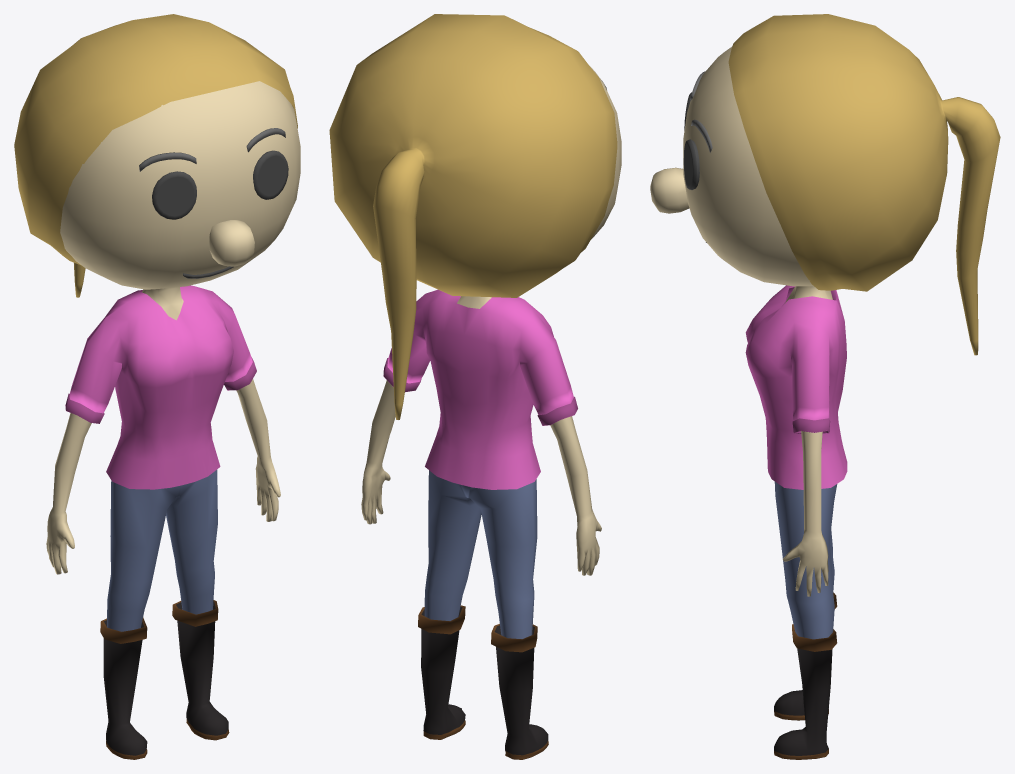
File: mom.fbx
The picture shows the model from 3 angles, left to right: view 1: azimuth 30°, elevation 25°; view 2: azimuth 150°, elevation 25°; view 3: azimuth 270°, elevation 25°; orthographic projection.
Visible parts, largest first — view 1: corpot.001, Sphere, camisola.003, calcas.001, sapatos.001, olhos.001, pestanas.001; view 2: Sphere, camisola.003, calcas.001, sapatos.001, corpot.001; view 3: Sphere, corpot.001, camisola.003, calcas.001, sapatos.001, olhos.001.
Boxes of the visible parts, bbox=[...] form: corpot.001: bbox=[46, 81, 300, 574]; Sphere: bbox=[14, 14, 297, 297]; camisola.003: bbox=[65, 285, 256, 489]; calcas.001: bbox=[107, 469, 217, 631]; sapatos.001: bbox=[100, 600, 229, 759]; olhos.001: bbox=[152, 150, 288, 219]; pestanas.001: bbox=[139, 128, 285, 171]; Sphere: bbox=[329, 14, 617, 419]; camisola.003: bbox=[383, 289, 577, 489]; calcas.001: bbox=[424, 470, 537, 638]; sapatos.001: bbox=[418, 605, 548, 759]; corpot.001: bbox=[361, 66, 621, 575]; Sphere: bbox=[728, 14, 1000, 355]; corpot.001: bbox=[650, 46, 832, 596]; camisola.003: bbox=[745, 285, 847, 489]; calcas.001: bbox=[774, 481, 837, 639]; sapatos.001: bbox=[774, 592, 837, 759]; olhos.001: bbox=[683, 92, 699, 189].
Bounding box in the file's own units: 352 × 915 × 414.
